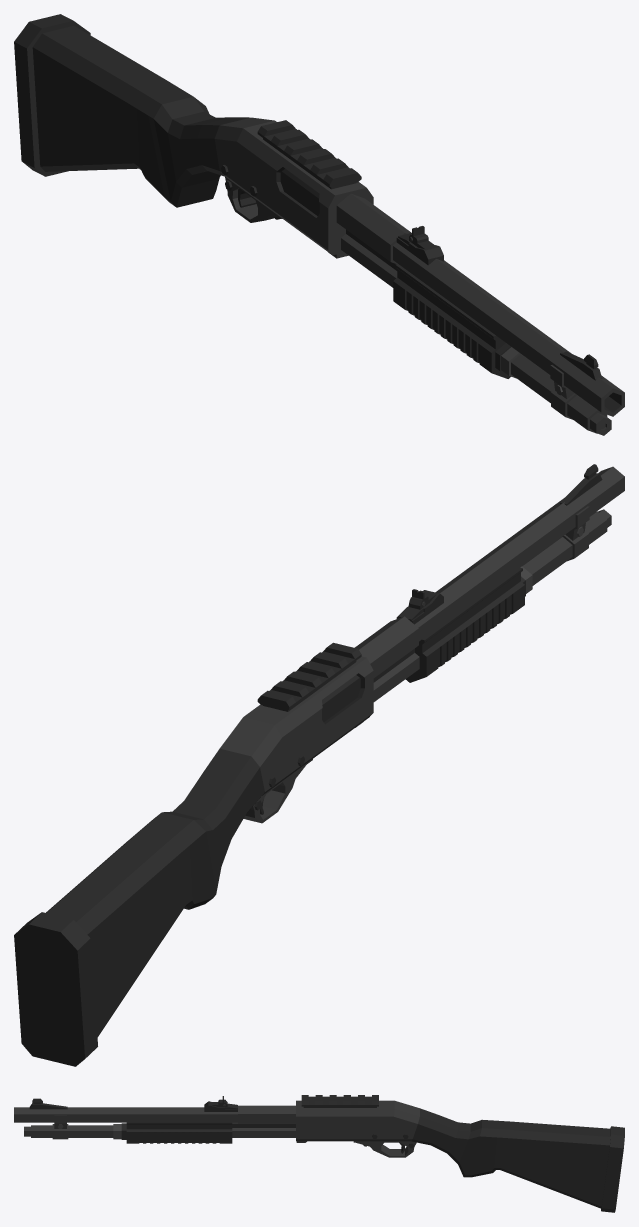
File: low_poly_shotgun-m870.glb
3 renders of one model, top to bottom at view 1: azimuth 30°, elevation 25°; view 2: azimuth 150°, elevation 25°; view 3: azimuth 270°, elevation 25°, orthographic. The views are drawn at different scales.
Visible parts, largest first — view 1: ShotGun_B_Stock, ShotGun_B_Barrel, ShotGun_B_Receiver, ShotGun_B_BarrelGuard, ShotGun_B_Mag, ShotGun_B_Rail, ShotGun_B_Sight_Back; view 2: ShotGun_B_Stock, ShotGun_B_Receiver, ShotGun_B_Barrel, ShotGun_B_BarrelGuard, ShotGun_B_Mag, ShotGun_B_Rail, ShotGun_B_Sight_Back; view 3: ShotGun_B_Stock, ShotGun_B_Receiver, ShotGun_B_Barrel, ShotGun_B_BarrelGuard, ShotGun_B_Mag, ShotGun_B_Rail, ShotGun_B_Sight_Back, ShotGun_B_Sight_Forward.
Boxes of the visible parts, box(x1,y1,x2,y2) form: ShotGun_B_Stock: box(14, 14, 249, 207); ShotGun_B_Barrel: box(336, 193, 624, 419); ShotGun_B_Receiver: box(214, 117, 373, 258); ShotGun_B_BarrelGuard: box(393, 264, 510, 378); ShotGun_B_Mag: box(341, 229, 611, 435); ShotGun_B_Rail: box(257, 120, 361, 189); ShotGun_B_Sight_Back: box(396, 226, 443, 265); ShotGun_B_Stock: box(14, 748, 264, 1066); ShotGun_B_Receiver: box(220, 656, 373, 823); ShotGun_B_Barrel: box(354, 466, 624, 677); ShotGun_B_BarrelGuard: box(405, 567, 524, 682); ShotGun_B_Mag: box(373, 509, 611, 701); ShotGun_B_Rail: box(257, 642, 361, 711); ShotGun_B_Sight_Back: box(396, 589, 443, 624); ShotGun_B_Stock: box(411, 1108, 624, 1212); ShotGun_B_Receiver: box(296, 1100, 419, 1157); ShotGun_B_Barrel: box(14, 1105, 295, 1139); ShotGun_B_BarrelGuard: box(126, 1122, 232, 1143); ShotGun_B_Mag: box(24, 1122, 295, 1139); ShotGun_B_Rail: box(301, 1095, 378, 1107); ShotGun_B_Sight_Back: box(204, 1096, 237, 1111); ShotGun_B_Sight_Forward: box(29, 1098, 67, 1109).
Size of the model in its own units: 0.28 by 0.8588 by 4.33.
Materials: 1 (1 with a texture image).
